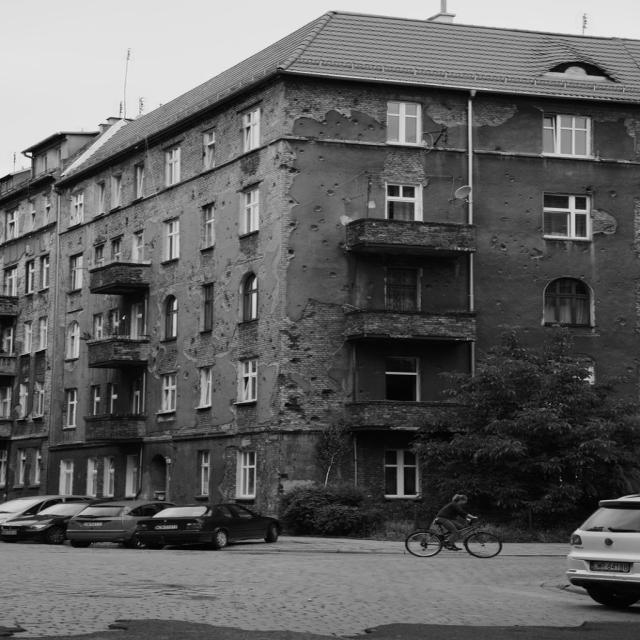car: (128, 499, 290, 550)
